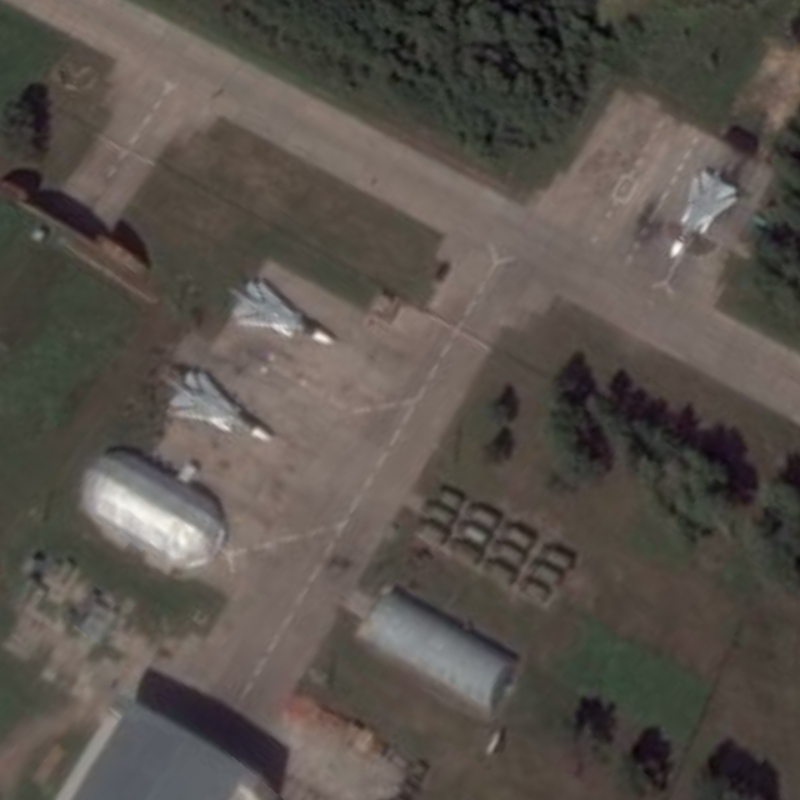A20: (164, 367, 275, 445), (228, 277, 337, 346), (666, 167, 741, 261)
